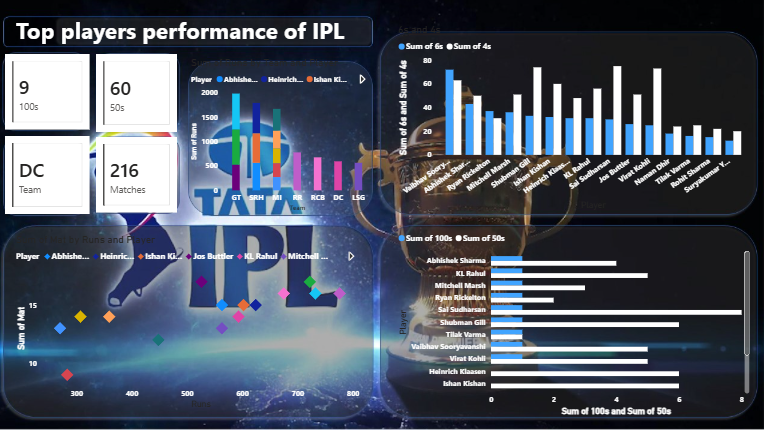

The dashboard page shown, as its layout file describes it:
{"tool":"powerbi","page":{"name":"Page 1","canvas":[1280,720],"ordinal":0},"visuals":[{"type":"lineChart","fields":{"Category":["IPL_2026_Player_Performance.Runs"],"Y":["Sum(IPL_2026_Player_Performance.Mat)"],"Series":["IPL_2026_Player_Performance.Player"]},"box":[28.3,388.3,582.5,299.1],"z":0},{"type":"cardVisual","fields":{"Data":["Min(IPL_2026_Player_Performance.Team)"]},"box":[9.9,221.1,151.7,140.3],"z":1000},{"type":"clusteredColumnChart","title":"6s and 4s ","fields":{"Y":["Sum(IPL_2026_Player_Performance.6s)","Sum(IPL_2026_Player_Performance.4s)"],"Category":["IPL_2026_Player_Performance.Player"]},"box":[664.3,38.6,595.7,317.1],"z":2000},{"type":"cardVisual","fields":{"Data":["Sum(IPL_2026_Player_Performance.Mat)"]},"box":[161.6,223.9,146,136.1],"z":3000},{"type":"cardVisual","fields":{"Data":["Sum(IPL_2026_Player_Performance.100s)"]},"box":[9.9,85,151.7,136.1],"z":4000},{"type":"clusteredBarChart","fields":{"Category":["IPL_2026_Player_Performance.Player"],"Y":["Sum(IPL_2026_Player_Performance.100s)","Sum(IPL_2026_Player_Performance.50s)"]},"box":[664.3,377.1,595.7,321.4],"z":5000},{"type":"cardVisual","fields":{"Data":["Sum(IPL_2026_Player_Performance.50s)"]},"box":[161.6,85,146,140.3],"z":6000},{"type":"ribbonChart","fields":{"Category":["IPL_2026_Player_Performance.Team"],"Series":["IPL_2026_Player_Performance.Player"],"Y":["Sum(IPL_2026_Player_Performance.Runs)"]},"box":[320,92.9,310,262.9],"z":7000},{"type":"textbox","box":[28.6,20,571.4,65.7],"z":8000}]}

Visuals, with their boxes in screenshot pixels (x1, y1, x2, y2), scaled from the page's 1280x720 canvas onto the 764x430 screenshot:
lineChart - IPL_2026_Player_Performance.Runs x Sum(IPL_2026_Player_Performance.Mat): [17, 232, 365, 411]
cardVisual - Min(IPL_2026_Player_Performance.Team): [6, 132, 96, 216]
"6s and 4s " clusteredColumnChart: [397, 23, 752, 212]
cardVisual - Sum(IPL_2026_Player_Performance.Mat): [96, 134, 184, 215]
cardVisual - Sum(IPL_2026_Player_Performance.100s): [6, 51, 96, 132]
clusteredBarChart - IPL_2026_Player_Performance.Player x Sum(IPL_2026_Player_Performance.100s): [397, 225, 752, 417]
cardVisual - Sum(IPL_2026_Player_Performance.50s): [96, 51, 184, 135]
ribbonChart - IPL_2026_Player_Performance.Team x IPL_2026_Player_Performance.Player: [191, 55, 376, 212]
textbox: [17, 12, 358, 51]
